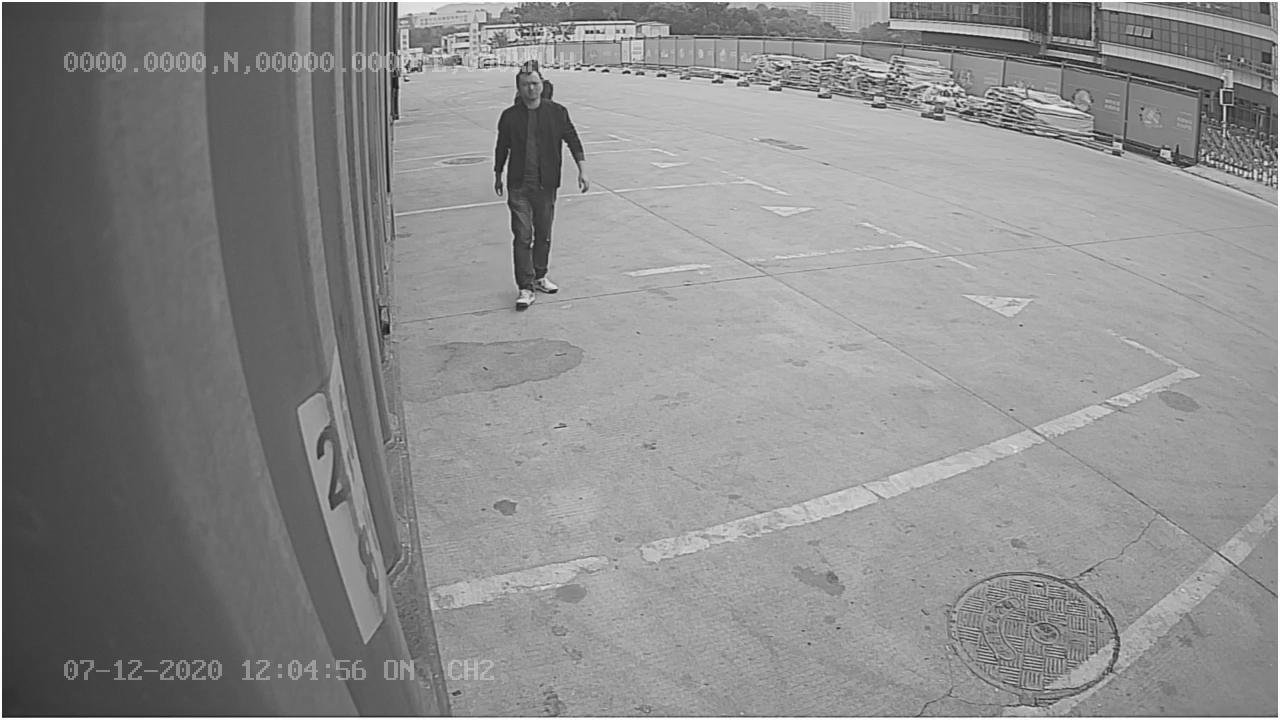person: (491, 68, 592, 308)
